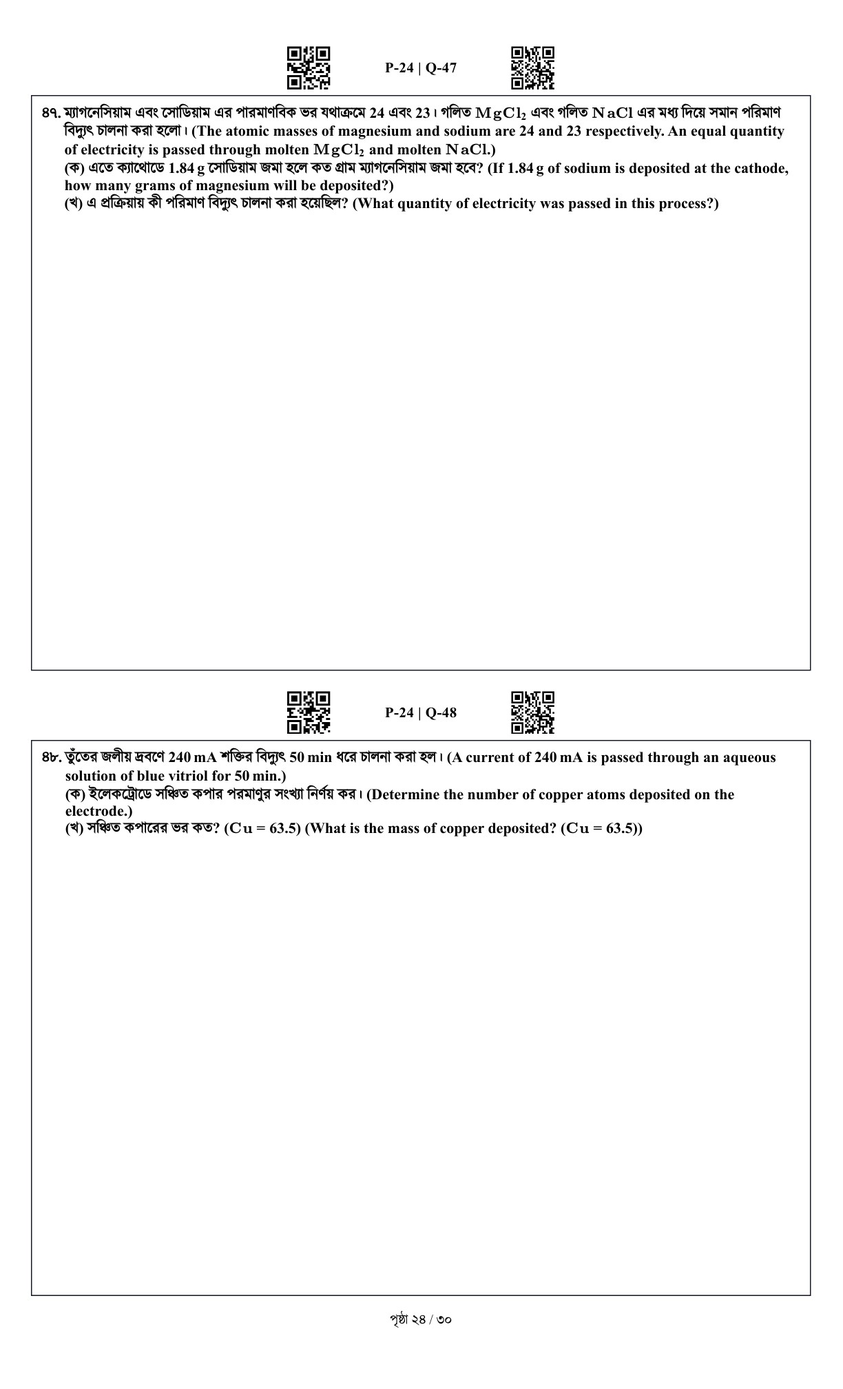question: (37, 100, 795, 219), (37, 741, 795, 846)
